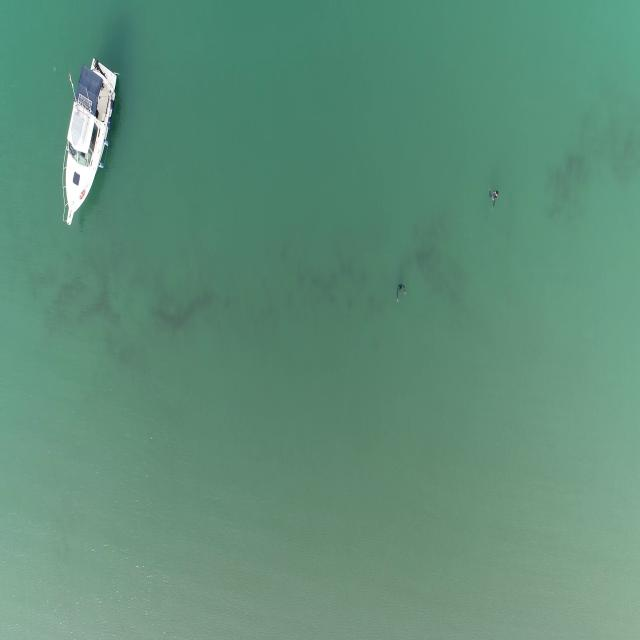boat: (59, 53, 120, 227)
person: (489, 183, 501, 212), (394, 282, 408, 305)
